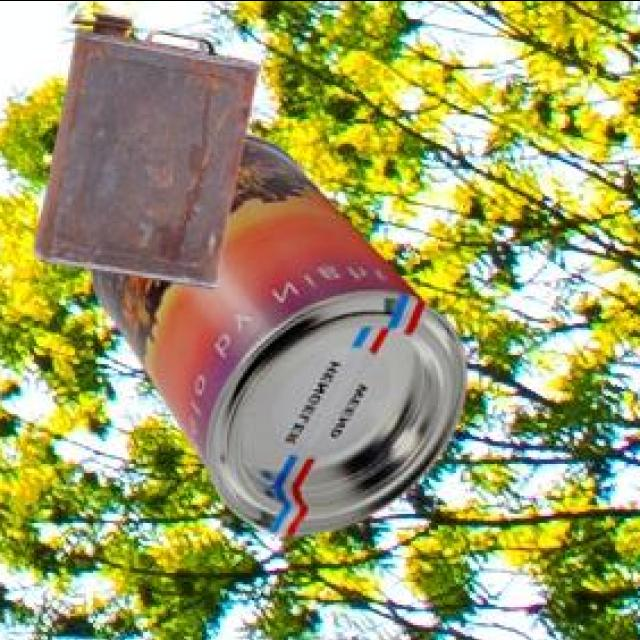logam: (94, 137, 471, 539), (37, 15, 264, 292)
